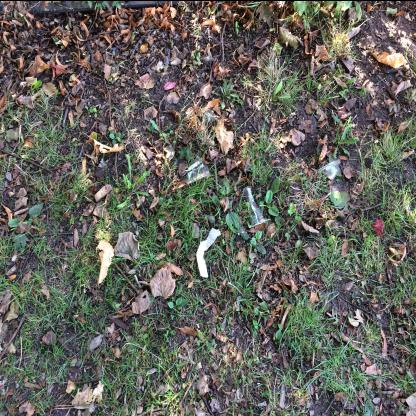plastik: (243, 184, 271, 226), (180, 155, 210, 185)
